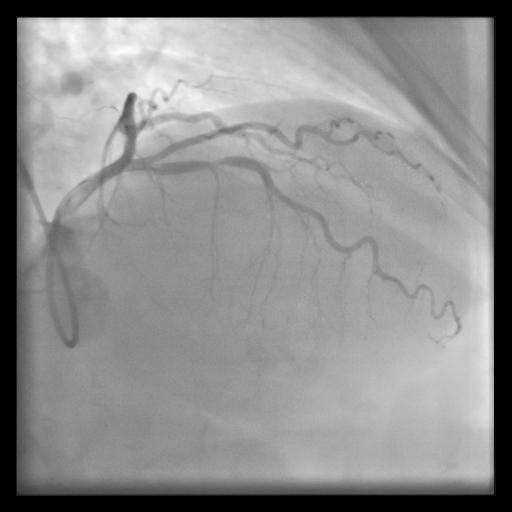Stenosis: (203, 154, 232, 170)
